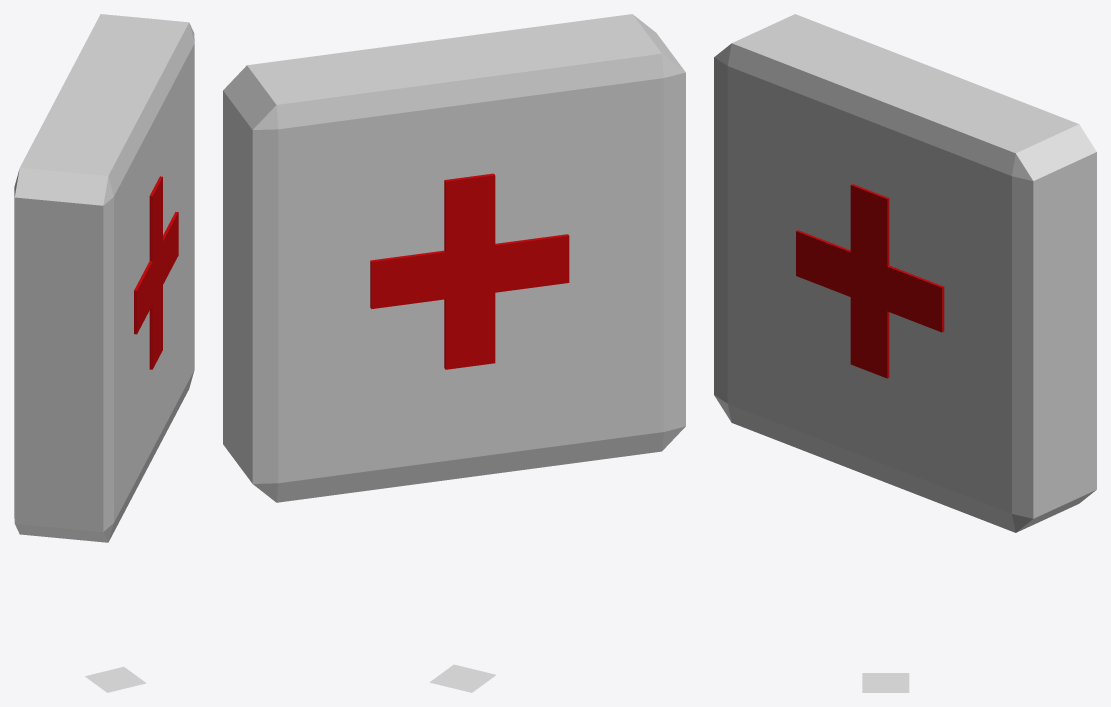
File: healthpack.fbx
The picture shows the model from 3 angles, left to right: view 1: azimuth 30°, elevation 25°; view 2: azimuth 150°, elevation 25°; view 3: azimuth 270°, elevation 25°; orthographic projection. The views are drawn at different scales.
Visible parts, largest first — view 1: Plane, Plane.001; view 2: Plane, Plane.001; view 3: Plane, Plane.001.
Boxes of the visible parts, x1=… form: Plane: x1=14, y1=14, x2=194, y2=542; Plane.001: x1=85, y1=666, x2=146, y2=692; Plane: x1=223, y1=14, x2=685, y2=502; Plane.001: x1=429, y1=664, x2=495, y2=692; Plane: x1=714, y1=14, x2=1096, y2=532; Plane.001: x1=862, y1=673, x2=909, y2=692.
Bounding box in the file's own units: 199 × 363 × 210.
